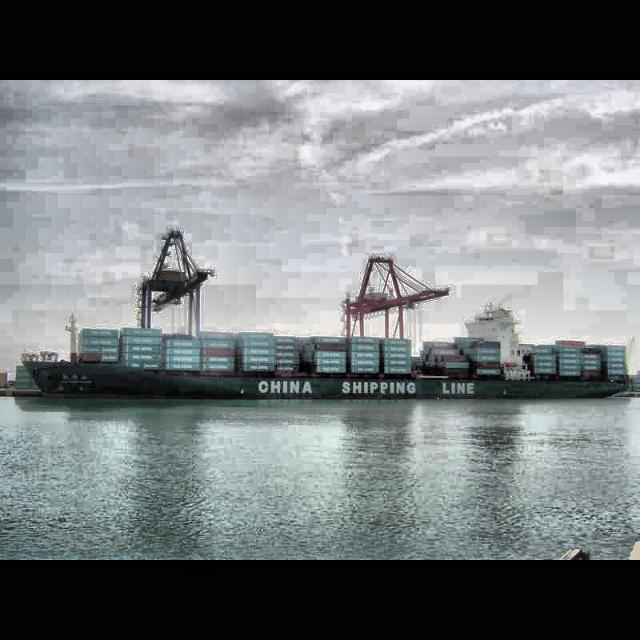container: (21, 303, 630, 403)
